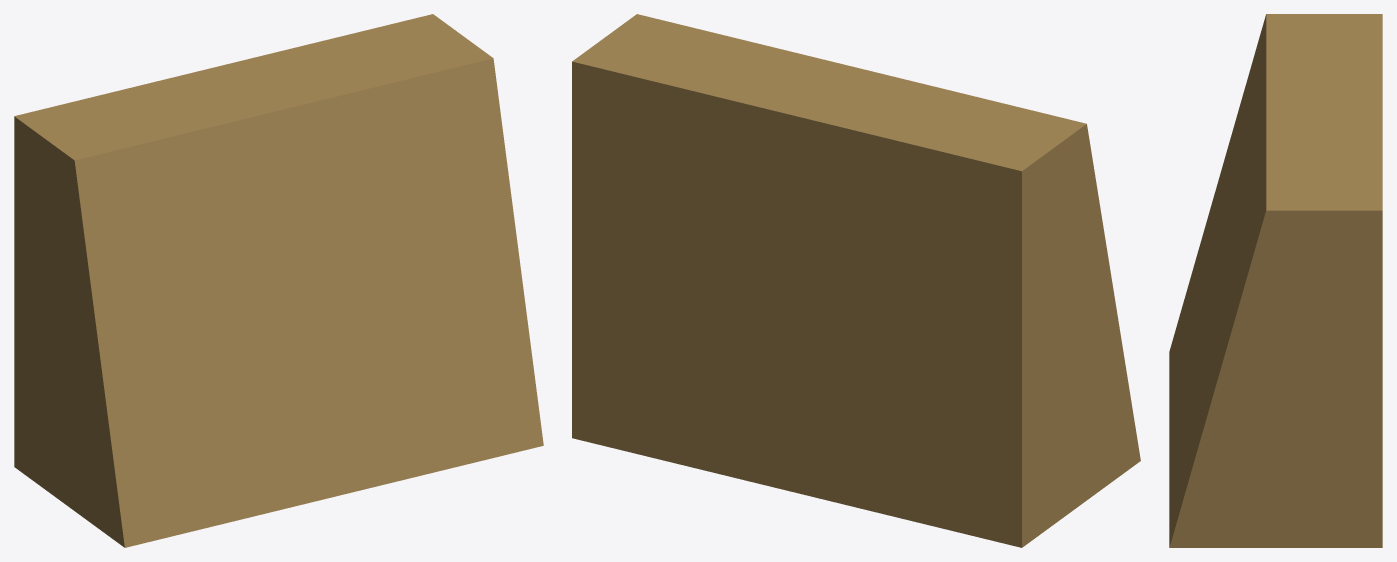
File: Terrain_Modular_Tiles_Dirt_Cliff_Side_Outer_01.fbx
The picture shows the model from 3 angles, left to right: view 1: azimuth 30°, elevation 25°; view 2: azimuth 150°, elevation 25°; view 3: azimuth 270°, elevation 25°; orthographic projection. The views are drawn at different scales.
Visible parts, largest first — view 1: Terrain_Modular_Tiles_Dirt_Cliff_Side_Outer_01; view 2: Terrain_Modular_Tiles_Dirt_Cliff_Side_Outer_01; view 3: Terrain_Modular_Tiles_Dirt_Cliff_Side_Outer_01.
Part boxes in pixels (box(x1,y1,x2,y2)): Terrain_Modular_Tiles_Dirt_Cliff_Side_Outer_01: box(14, 14, 543, 547); Terrain_Modular_Tiles_Dirt_Cliff_Side_Outer_01: box(572, 14, 1140, 547); Terrain_Modular_Tiles_Dirt_Cliff_Side_Outer_01: box(1169, 14, 1382, 547).
Size of the model in its own units: 118 by 94.49 by 54.07.
